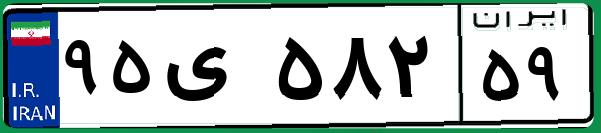2: (385, 28, 445, 110)
5: (270, 28, 330, 110), (475, 38, 525, 113), (110, 28, 158, 98)
8: (330, 28, 385, 110)
9: (57, 26, 110, 100), (525, 38, 570, 115)
ی: (158, 20, 270, 120)
